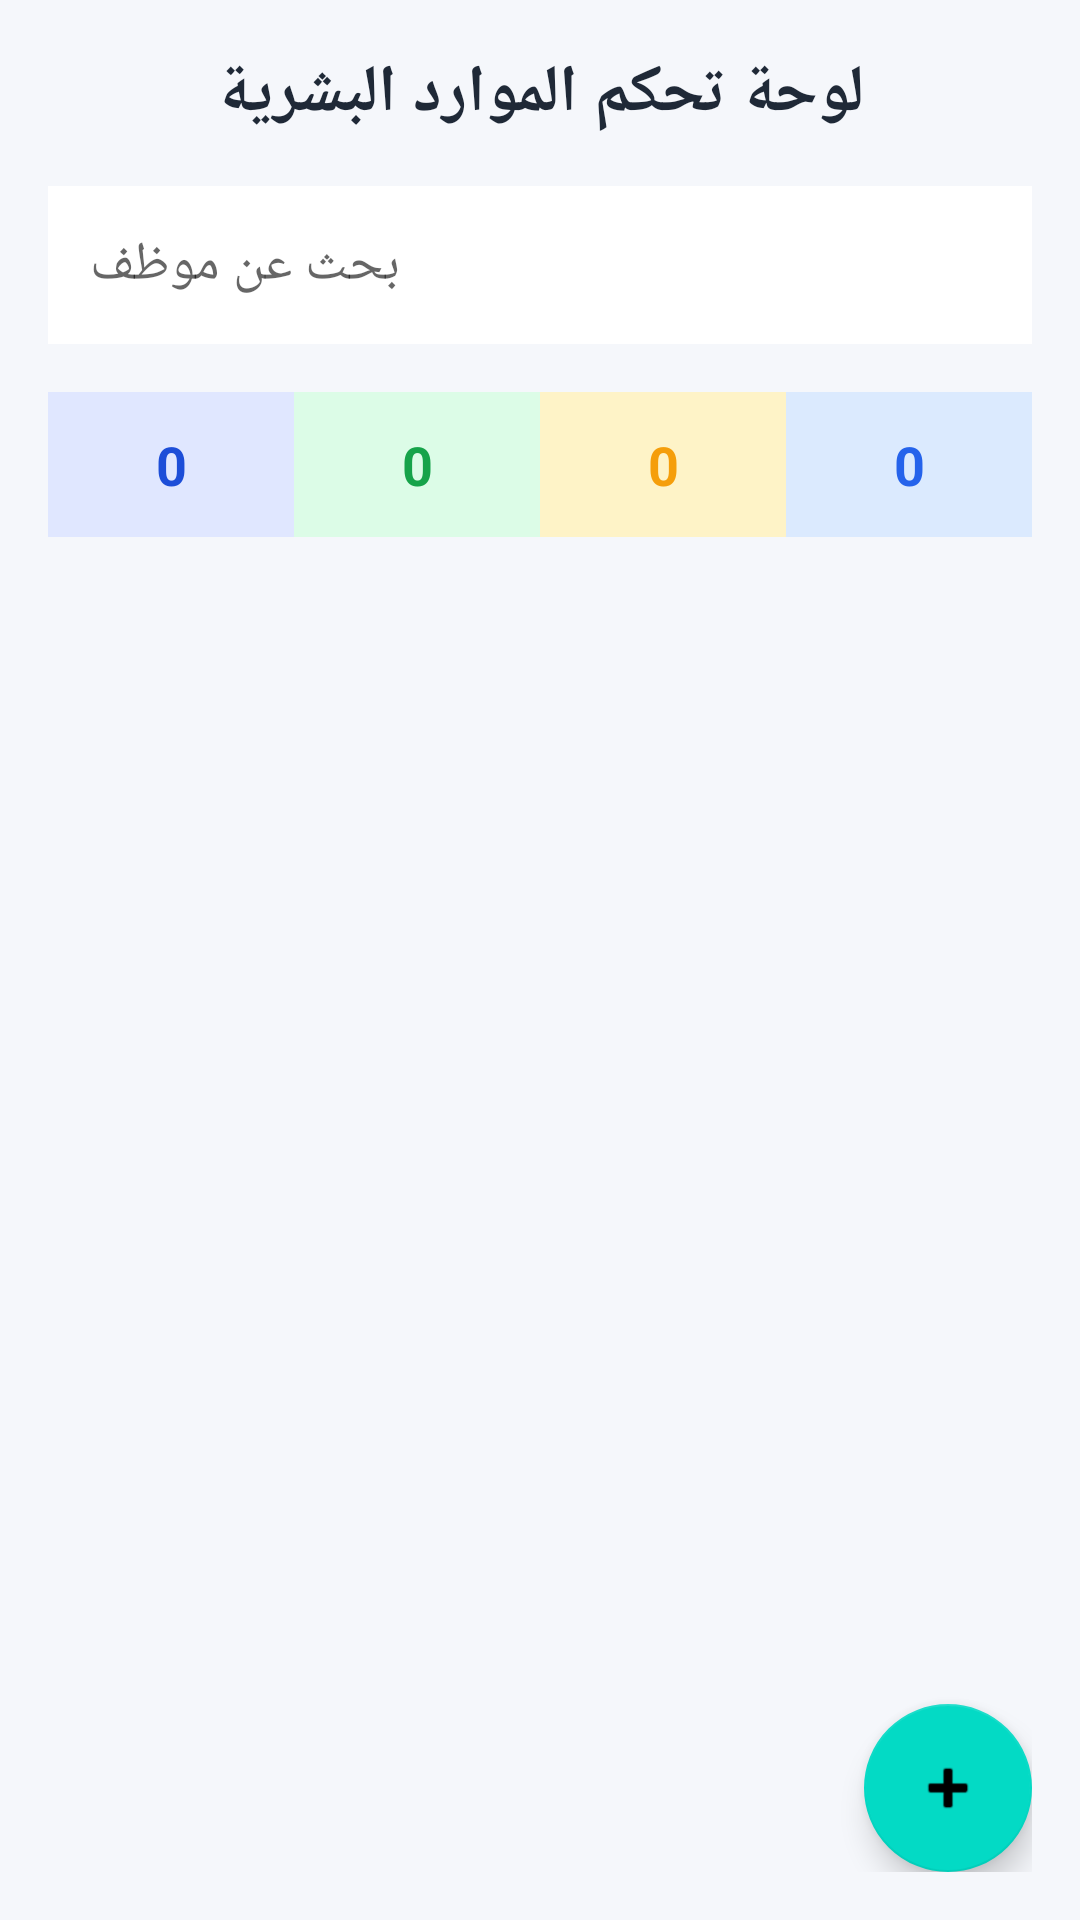

Icon click points for this 1080*1920 phone screenshot, format (x,y):
إضافة موظف: (948,1788)
